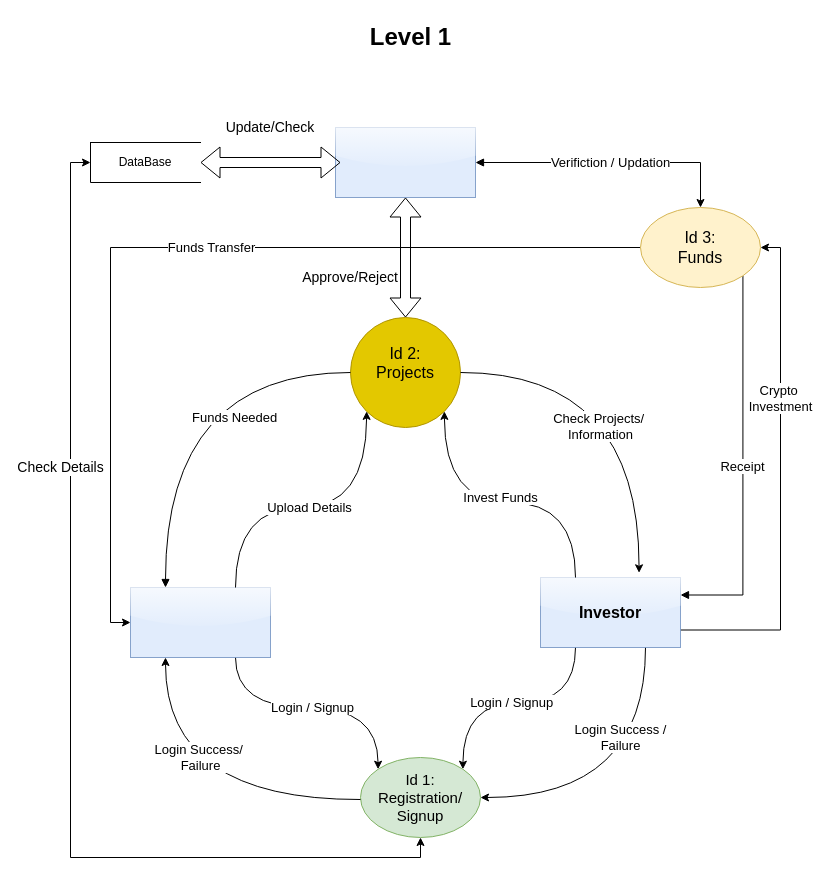
Some shapes in this 829 by 884 pixel diagram are drawn without their labels. Here are the shapes that lost their labels. From the top down, the centre of each, then its label:
At point 405,162: "Admin".
At point 200,622: "User".
